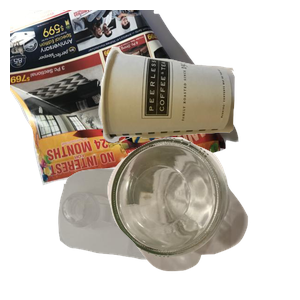glass: (105, 135, 300, 300)
paper: (10, 10, 241, 188)
plastic: (56, 166, 241, 300)
trash: (95, 44, 300, 180)
